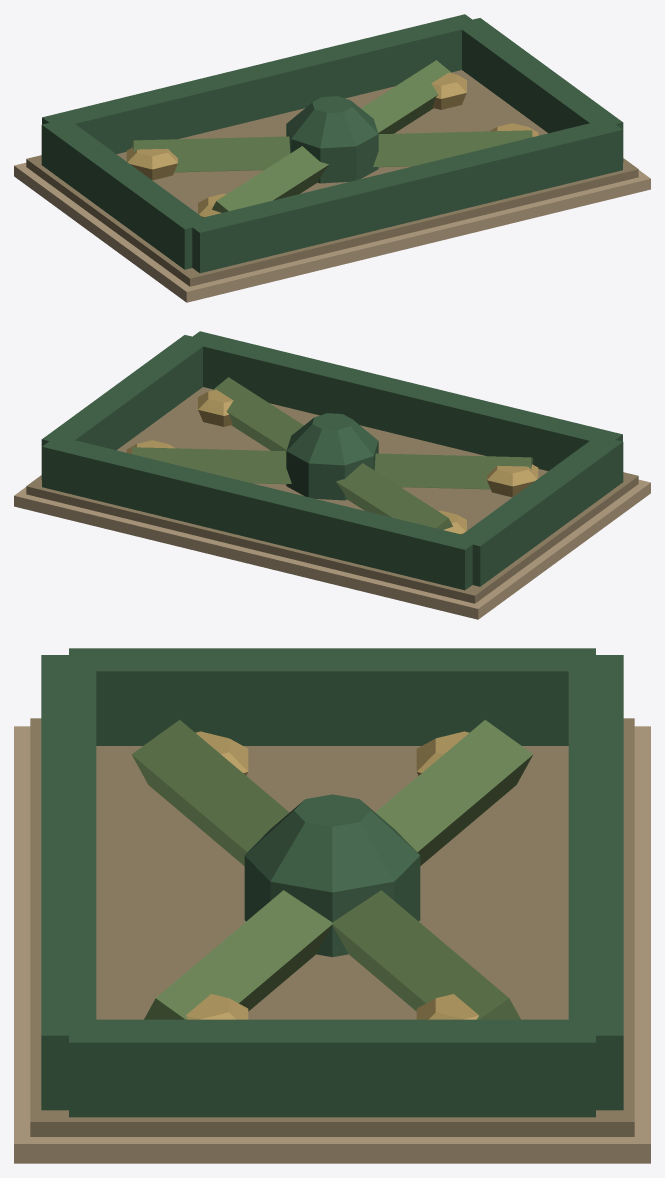
The model's file is Royal_Parterre.fbx.
3 renders of one model, top to bottom at view 1: azimuth 30°, elevation 25°; view 2: azimuth 150°, elevation 25°; view 3: azimuth 270°, elevation 25°, orthographic. The views are drawn at different scales.
Visible parts, largest first — view 1: Royal_Parterre; view 2: Royal_Parterre; view 3: Royal_Parterre.
Part boxes in pixels (x1,y1,x2,y2): Royal_Parterre: [14, 14, 650, 302]; Royal_Parterre: [14, 331, 650, 619]; Royal_Parterre: [14, 648, 650, 1163].
Bounding box in the file's own units: 9 × 1.45 × 5.8.
